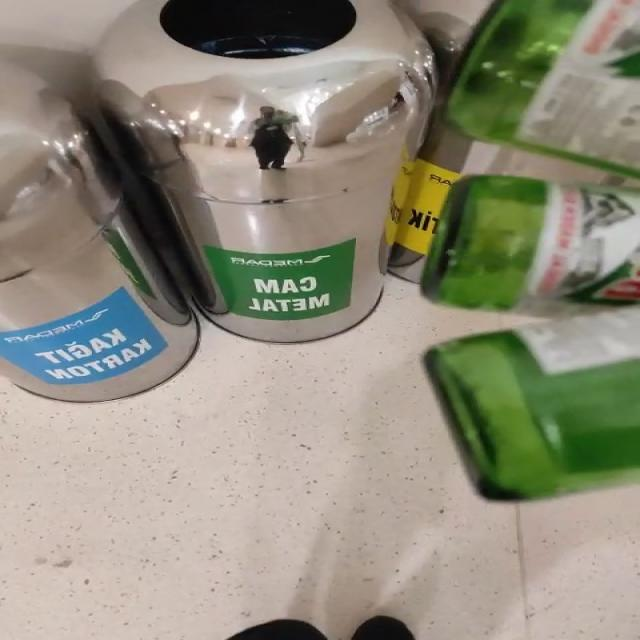bin: (93, 0, 433, 343)
glass: (421, 174, 640, 500), (448, 0, 640, 177)
